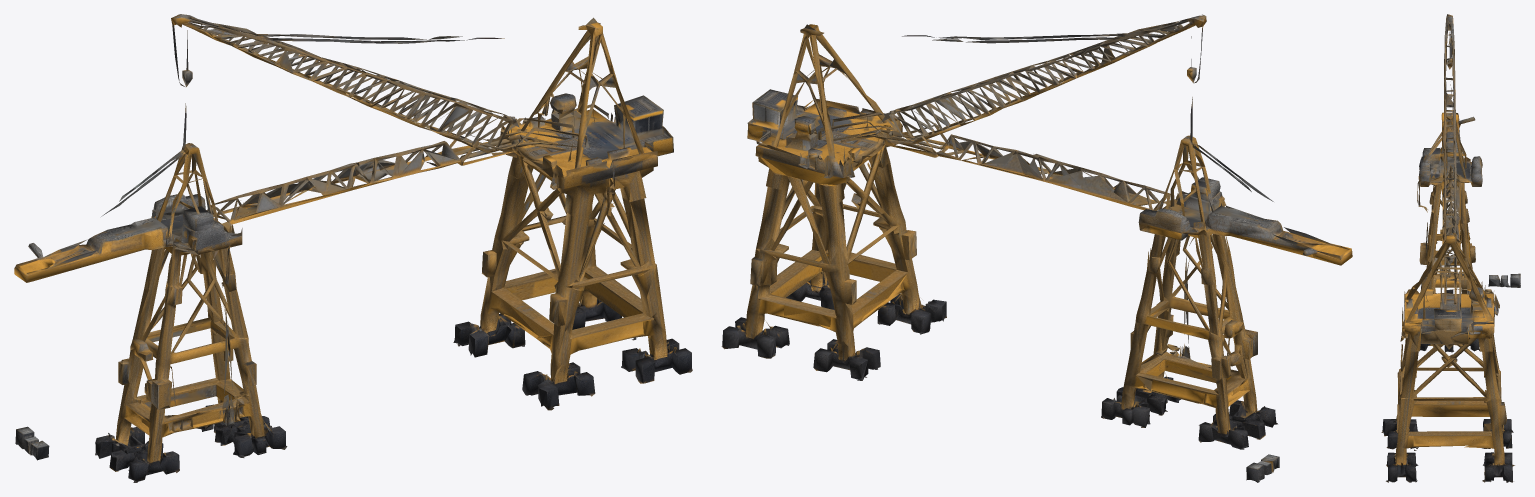
Rendered from Scenery_GantryCrane.fbx.
3 renders of one model, left to right at view 1: azimuth 30°, elevation 25°; view 2: azimuth 150°, elevation 25°; view 3: azimuth 270°, elevation 25°, orthographic. The views are drawn at different scales.
Parts seen in each view (by area): view 1: Mesh_0; view 2: Mesh_0; view 3: Mesh_0.
Boxes of the visible parts, box(x1,y1,x2,y2) form: Mesh_0: box(14, 14, 692, 482); Mesh_0: box(721, 14, 1352, 482); Mesh_0: box(1381, 14, 1520, 482).
Bounding box in the file's own units: 190 × 126 × 51.96.
1 material, 1 textured.
